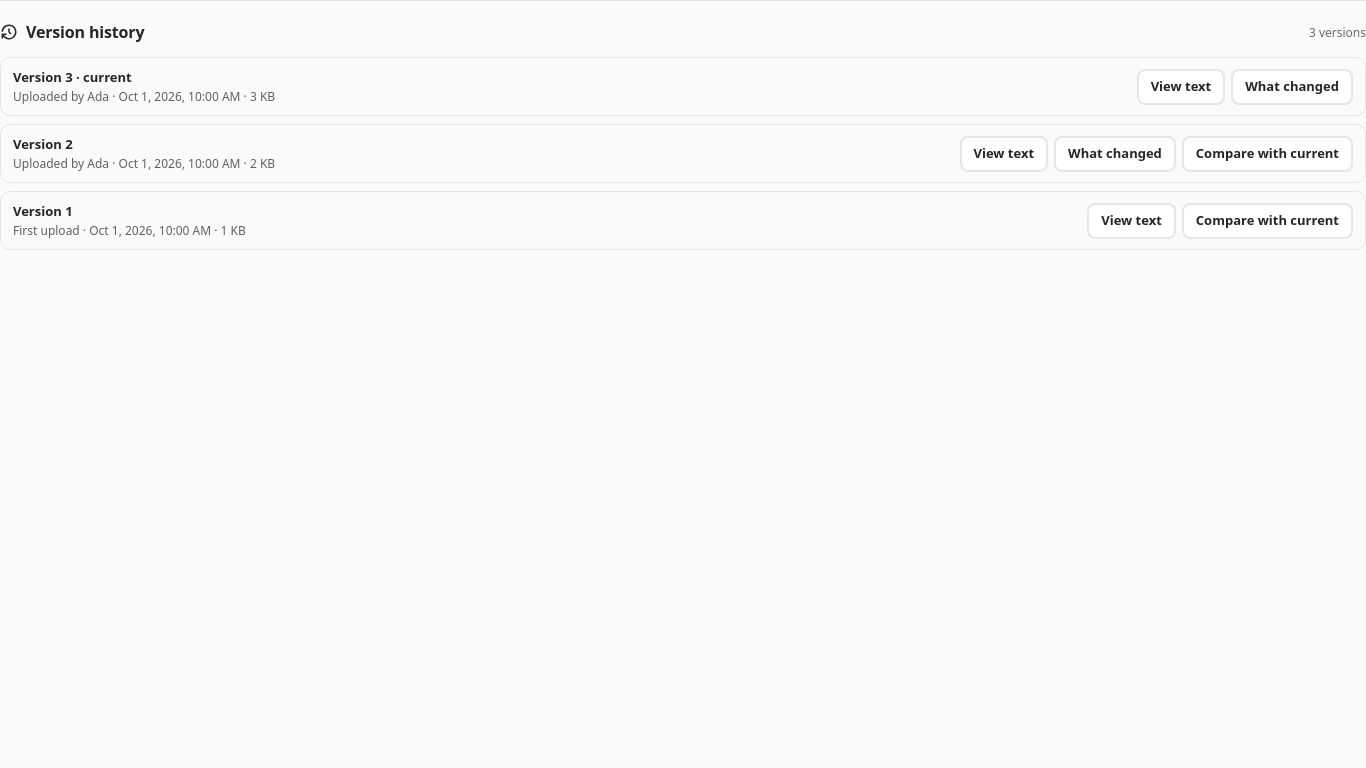
Scenario: ArtifactVersionsPanel › shows a comparison with the changed lines marked
The width and height of the screenshot is (1366, 768).
Click the button "Compare with current" in the row of "First upload ·". click: x=1267, y=220
box: [1182,202,1353,238]
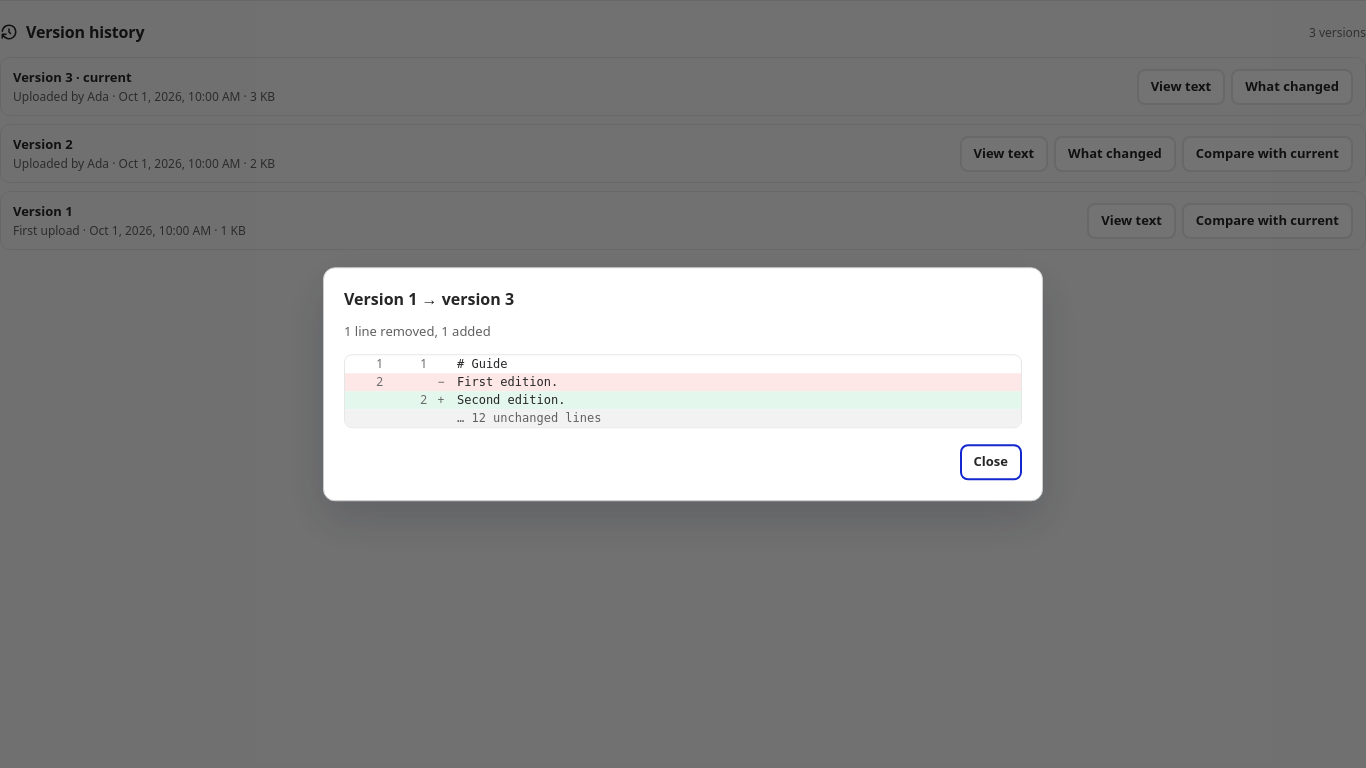
Now the text "First edition." is shown, box [457,375,558,389]
Now the text "Second edition." is shown, box [457,393,565,407]
Now the text "… 12 unchanged lines" is shown, box [457,411,602,425]
